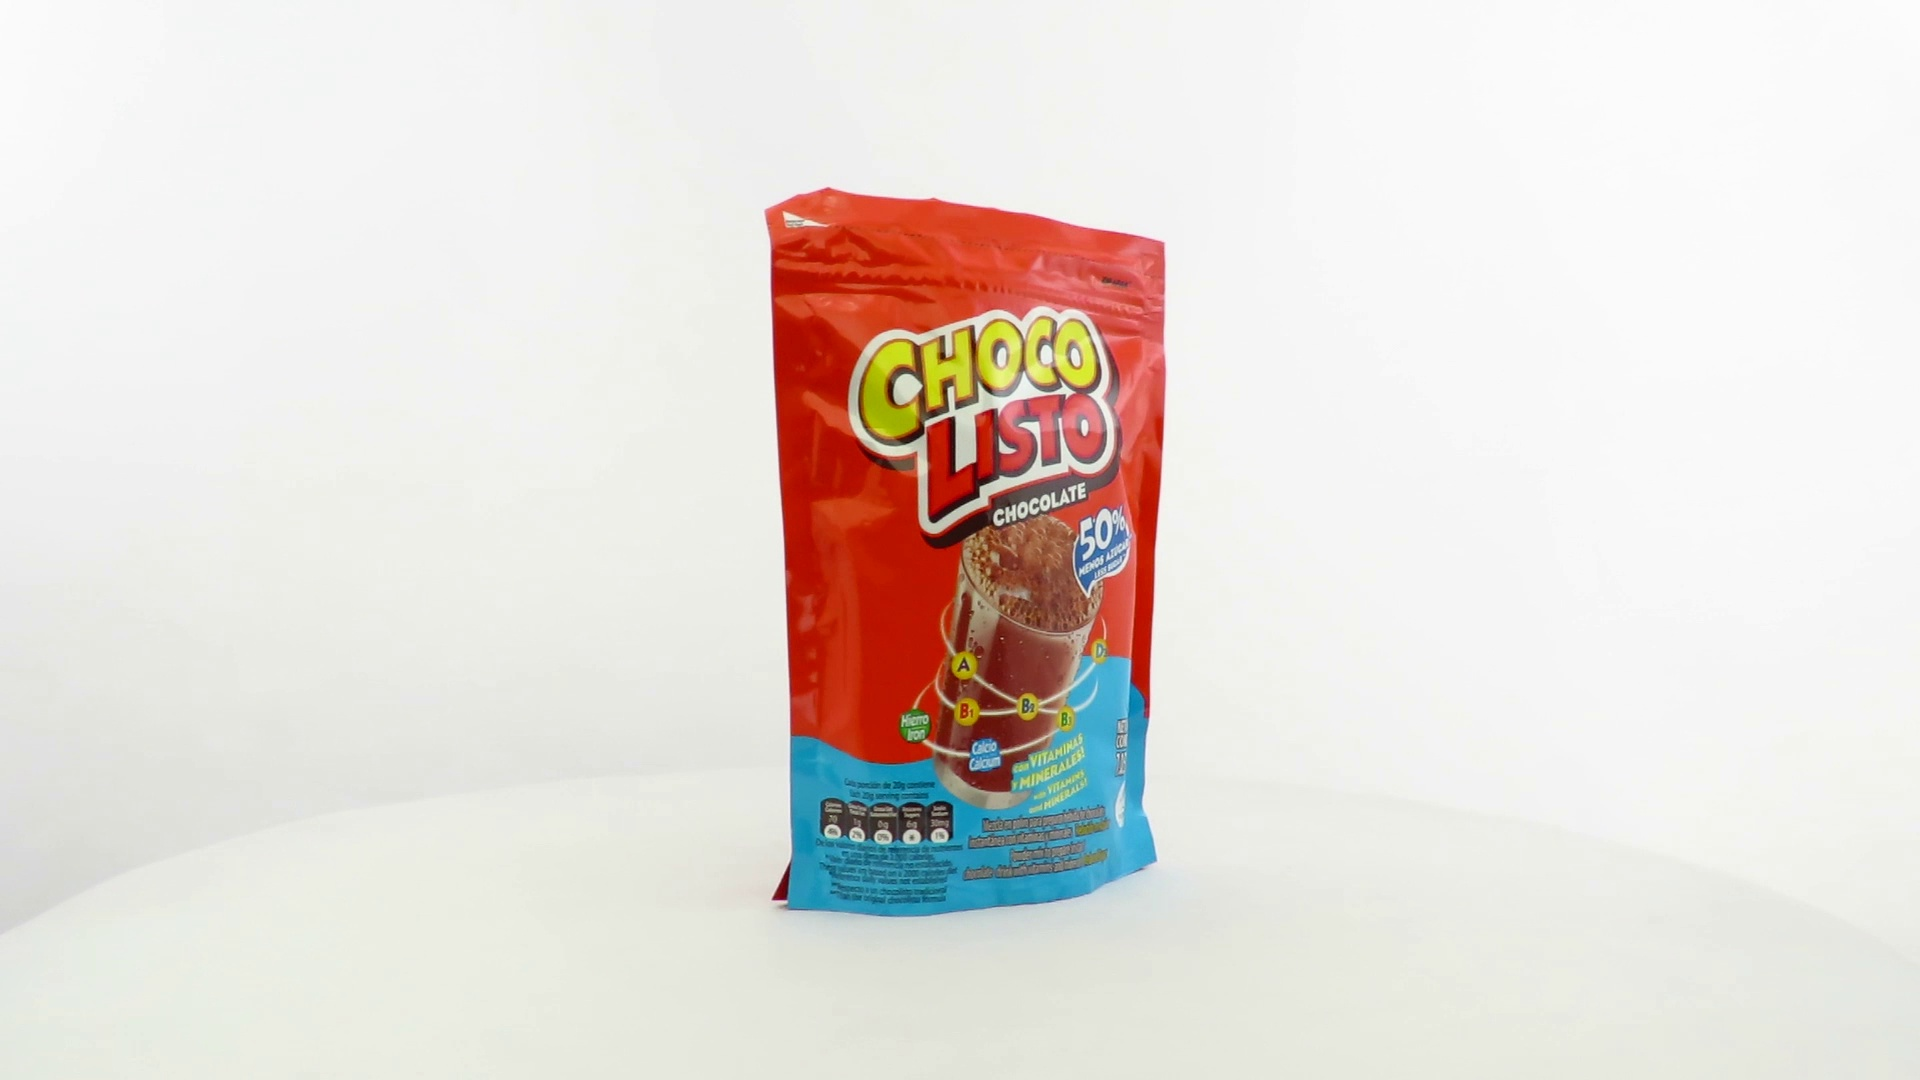COL0170104DYP20000: (760, 182, 1172, 924)
